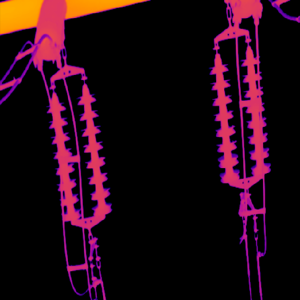insulator: (77, 83, 111, 215), (47, 89, 80, 223), (210, 49, 239, 181), (243, 43, 268, 175)
